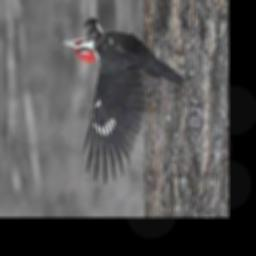Woodpecker: (59, 19, 187, 185)
